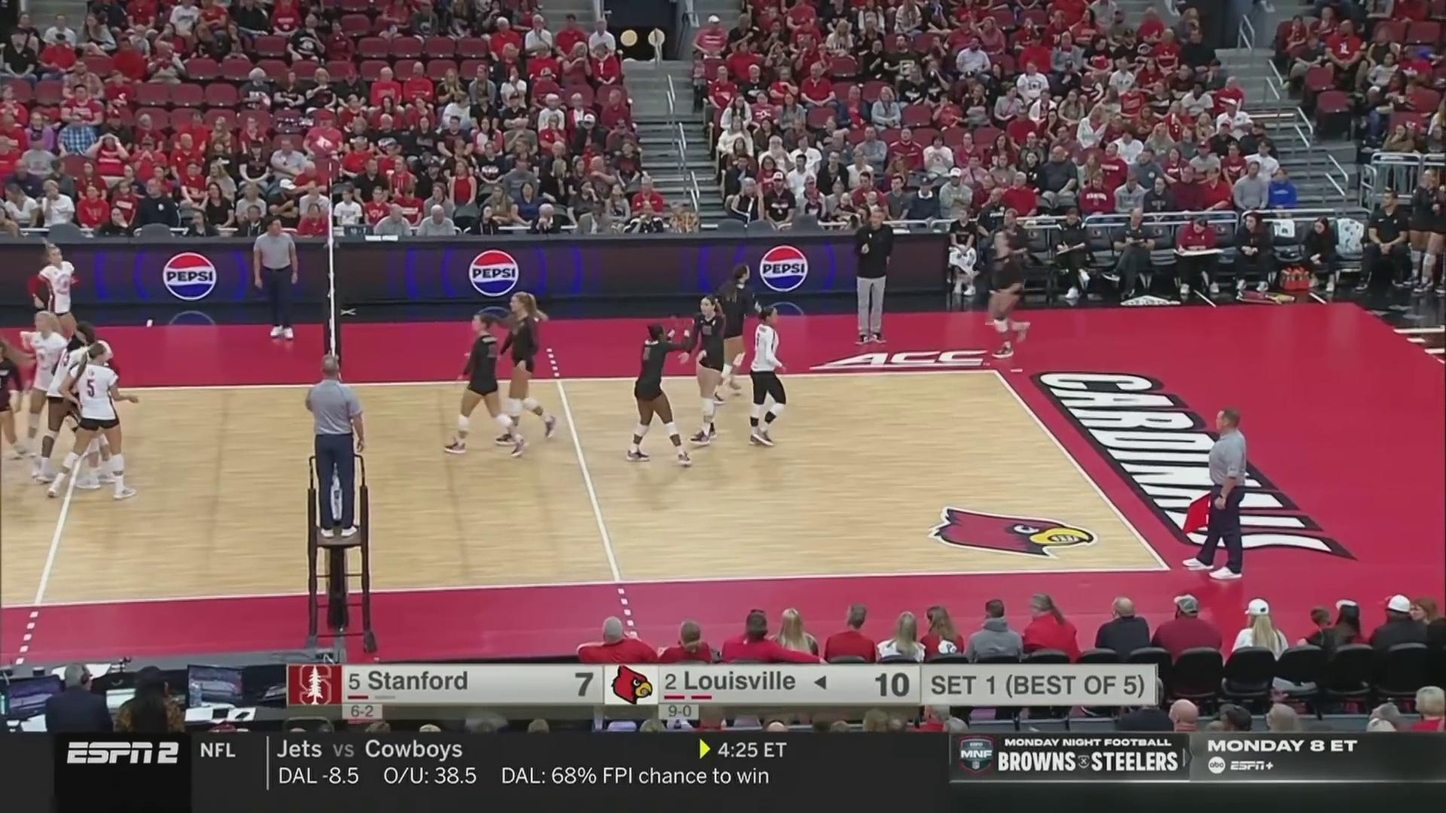player: (50, 342, 134, 504), (35, 325, 113, 488), (447, 313, 525, 459), (626, 322, 694, 468), (21, 311, 87, 460), (504, 291, 559, 445), (705, 262, 761, 406), (676, 297, 725, 446), (27, 245, 84, 371), (747, 305, 789, 446), (987, 233, 1033, 360), (0, 334, 34, 461)
refree: (304, 356, 370, 537), (1185, 406, 1249, 577), (252, 219, 300, 338)
